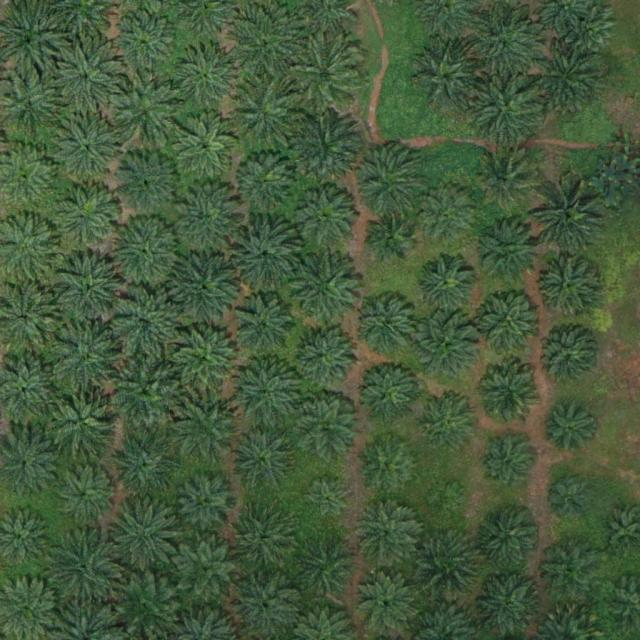Healthy: (469, 10, 540, 81), (171, 326, 242, 397), (47, 387, 118, 458), (50, 530, 121, 601), (51, 45, 121, 116), (112, 77, 183, 147), (110, 148, 181, 218), (110, 219, 180, 290), (111, 289, 181, 360), (172, 40, 242, 111), (170, 250, 240, 321), (231, 10, 301, 81), (229, 77, 299, 148), (289, 40, 359, 111), (292, 110, 362, 181), (290, 182, 360, 253), (291, 255, 361, 326), (354, 148, 424, 219), (412, 42, 482, 113), (472, 75, 542, 146), (474, 286, 544, 357), (533, 49, 603, 120), (410, 311, 480, 382), (172, 395, 242, 466), (109, 570, 180, 640), (53, 325, 123, 396), (535, 184, 605, 254), (52, 115, 122, 185), (55, 255, 125, 325), (110, 10, 180, 80), (175, 182, 245, 252), (230, 215, 300, 285), (476, 220, 546, 290), (473, 505, 543, 575), (412, 528, 482, 598), (233, 360, 303, 430), (112, 358, 182, 428), (109, 428, 179, 498), (111, 498, 181, 568), (55, 184, 118, 247), (174, 114, 237, 177), (234, 149, 297, 212), (414, 254, 477, 317), (537, 255, 600, 318), (420, 392, 483, 455), (359, 434, 422, 497), (354, 502, 417, 565), (354, 571, 417, 634), (294, 326, 357, 389), (232, 426, 295, 489), (230, 509, 293, 572), (479, 151, 541, 214), (234, 296, 296, 359), (352, 295, 415, 357), (416, 184, 478, 247), (539, 540, 601, 603), (357, 360, 419, 423), (295, 396, 357, 459), (296, 537, 358, 600), (176, 474, 238, 537), (176, 539, 238, 602), (539, 326, 601, 388), (477, 364, 539, 426), (54, 463, 116, 525), (560, 5, 615, 60), (542, 404, 597, 459), (480, 436, 535, 491), (367, 213, 414, 260)
Small: (303, 478, 350, 525), (550, 478, 589, 518), (426, 480, 465, 520)
